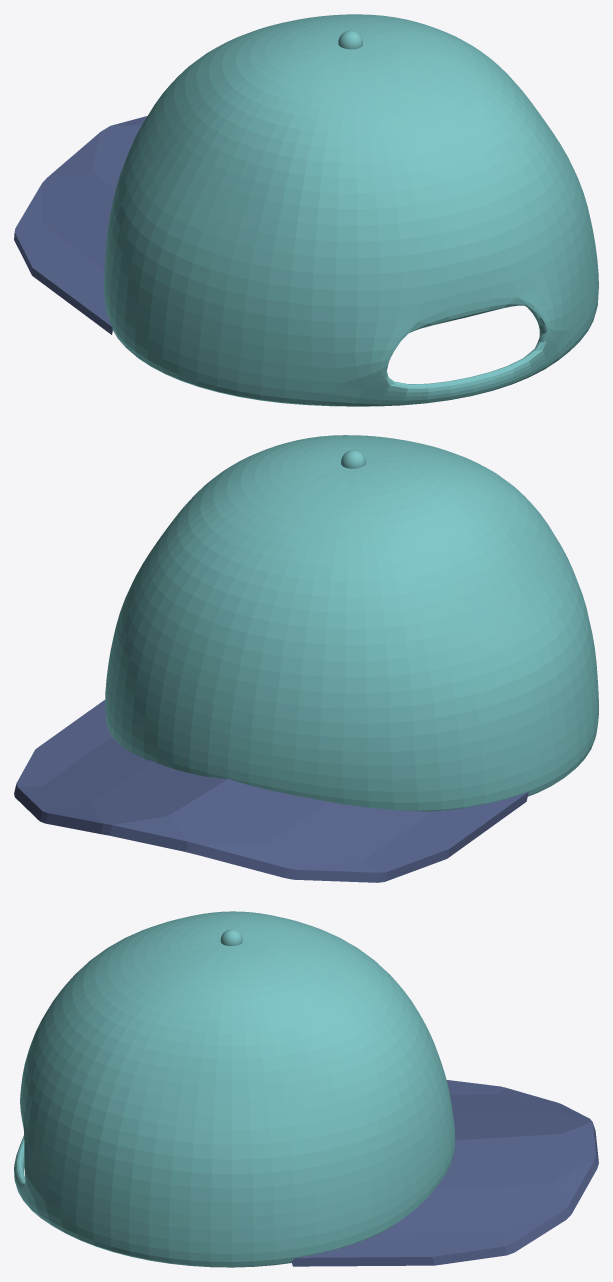
Rendered from Baseballcap 1.fbx.
3 views of the same model, one above another, from view 1: azimuth 30°, elevation 25°; view 2: azimuth 150°, elevation 25°; view 3: azimuth 270°, elevation 25° (orthographic). The views are drawn at different scales.
Visible parts, largest first — view 1: Sphere, Sphere.002; view 2: Sphere, Sphere.002; view 3: Sphere, Sphere.002.
Boxes of the visible parts, bbox=[...] form: Sphere: bbox=[104, 14, 598, 406]; Sphere.002: bbox=[14, 116, 147, 334]; Sphere: bbox=[105, 435, 598, 811]; Sphere.002: bbox=[14, 700, 528, 882]; Sphere: bbox=[14, 911, 455, 1267]; Sphere.002: bbox=[291, 1080, 598, 1266].
Size of the model in its own units: 197 by 121 by 260.
Materials: 2 (2 with a texture image).
